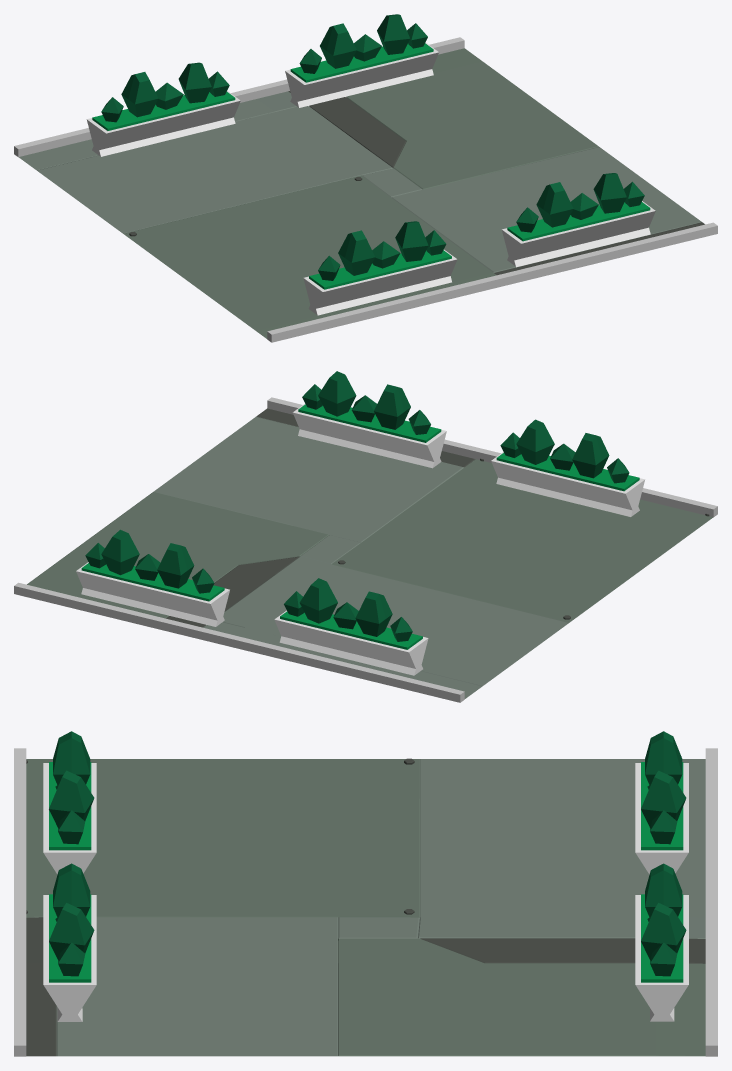
3 renders of one model, top to bottom at view 1: azimuth 30°, elevation 25°; view 2: azimuth 150°, elevation 25°; view 3: azimuth 270°, elevation 25°, orthographic. The views are drawn at different scales.
Visible parts, largest first — view 1: Scifi_Panel_04_Plaza014_group4.017_Scifi_Panel_04_Plaza014_group, base_pot.009, base_pot.011, base_pot.008, base_pot.010, Cube.920_Cube.1045, Cube.919_Cube.1044; view 2: Scifi_Panel_04_Plaza014_group4.017_Scifi_Panel_04_Plaza014_group, base_pot.011, base_pot.008, base_pot.010, base_pot.009, Cube.919_Cube.1044, Cube.920_Cube.1045; view 3: Scifi_Panel_04_Plaza014_group4.017_Scifi_Panel_04_Plaza014_group, base_pot.009, base_pot.010, base_pot.011, base_pot.008, Cube.920_Cube.1045, Cube.919_Cube.1044.
Boxes of the visible parts, x1,y1,x2,y2 form: Scifi_Panel_04_Plaza014_group4.017_Scifi_Panel_04_Plaza014_group: (19,48,704,338); base_pot.009: (501,173,655,267); base_pot.011: (86,62,240,156); base_pot.008: (303,221,457,315); base_pot.010: (285,14,438,107); Cube.920_Cube.1045: (267,222,717,342); Cube.919_Cube.1044: (14,37,464,157); Scifi_Panel_04_Plaza014_group4.017_Scifi_Panel_04_Plaza014_group: (27,408,712,698); base_pot.011: (274,578,428,675); base_pot.008: (491,419,645,516); base_pot.010: (76,529,229,626); base_pot.009: (292,371,446,468); Cube.919_Cube.1044: (14,582,464,702); Cube.920_Cube.1045: (267,397,717,517); Scifi_Panel_04_Plaza014_group4.017_Scifi_Panel_04_Plaza014_group: (26,758,705,1056); base_pot.009: (43,863,96,1021); base_pot.010: (635,863,688,1021); base_pot.011: (635,731,688,874); base_pot.008: (43,731,96,874); Cube.920_Cube.1045: (14,748,26,1056); Cube.919_Cube.1044: (705,748,717,1056).
Bounding box in the file's own units: 10 × 1.51 × 10.
